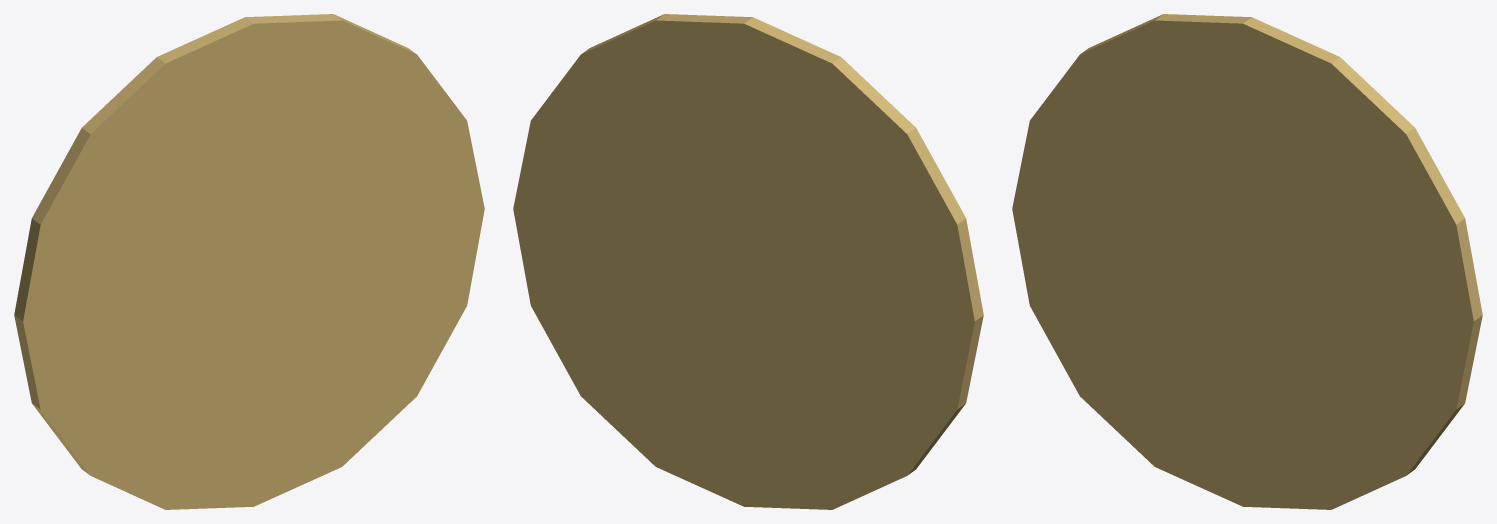
File: 143_L107_DualFlash_ServicePad_Reference.glb
3 views of the same model, side by side, from view 1: azimuth 30°, elevation 25°; view 2: azimuth 150°, elevation 25°; view 3: azimuth 330°, elevation 25° (orthographic).
Parts seen in each view (by area): view 1: 000_GOLD; view 2: 000_GOLD; view 3: 000_GOLD.
Boxes of the visible parts, box(x1,y1,x2,y2) form: 000_GOLD: box(14, 14, 484, 509); 000_GOLD: box(513, 14, 983, 509); 000_GOLD: box(1012, 14, 1482, 509).
Bounding box in the file's own units: 0.003 × 0.003 × 0.0001.
